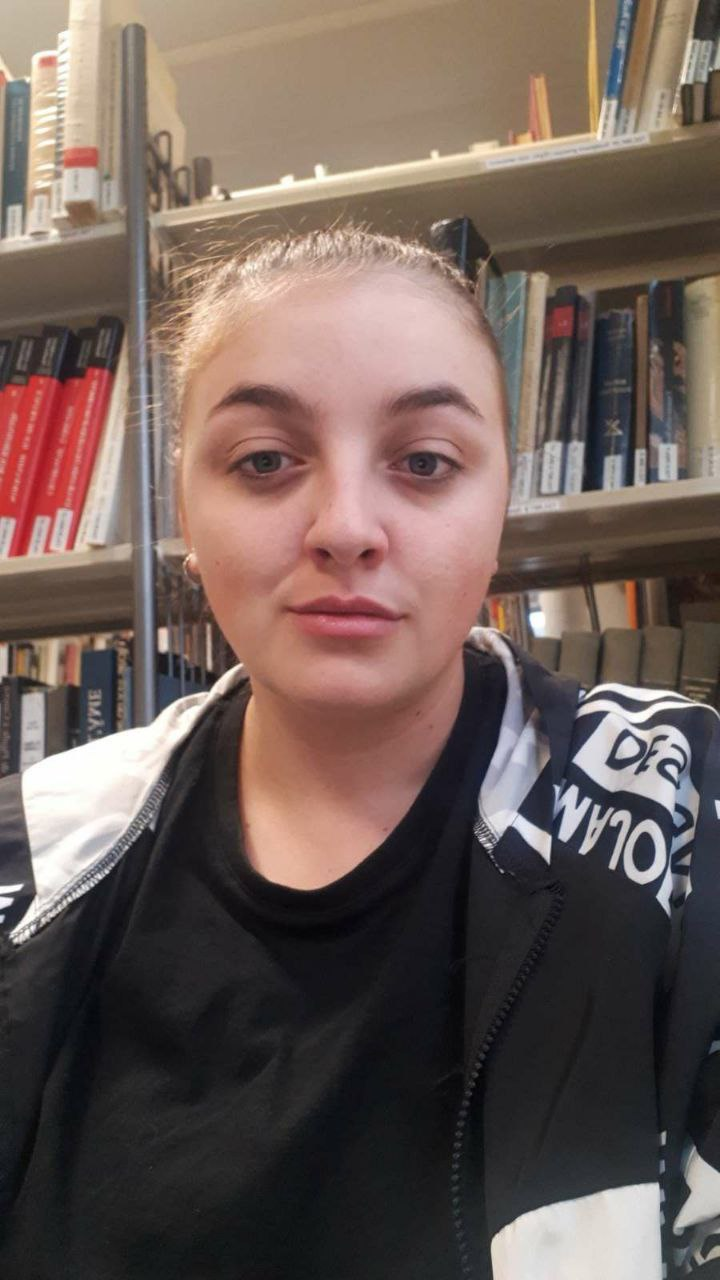without_mask: (165, 273, 529, 712)
